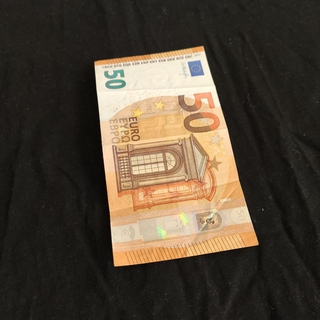50EUROFront: (93, 44, 259, 267)
